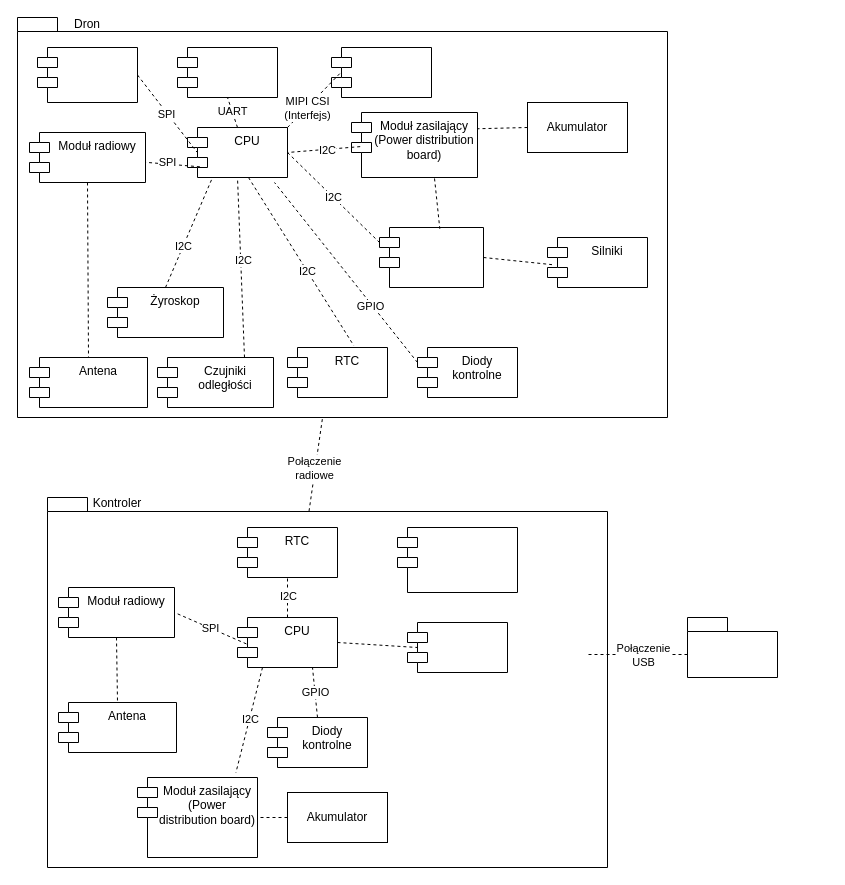
This 845x885 diagram has some shape labels left out. The centre of each missing label's shape, as x and y in pixels:
"ADC (Analog to Digital Converter)" belongs at point (457, 559).
"Drążki analogowe i przyciski" belongs at point (457, 647).
"GPS" belongs at point (227, 72).
"Jednostka sterująca silnikami" belongs at point (431, 257).
"Kamera" belongs at point (381, 72).
"Pamięć Flash" belongs at point (87, 74).
"Urządzenie mobilne" belongs at point (732, 647).
